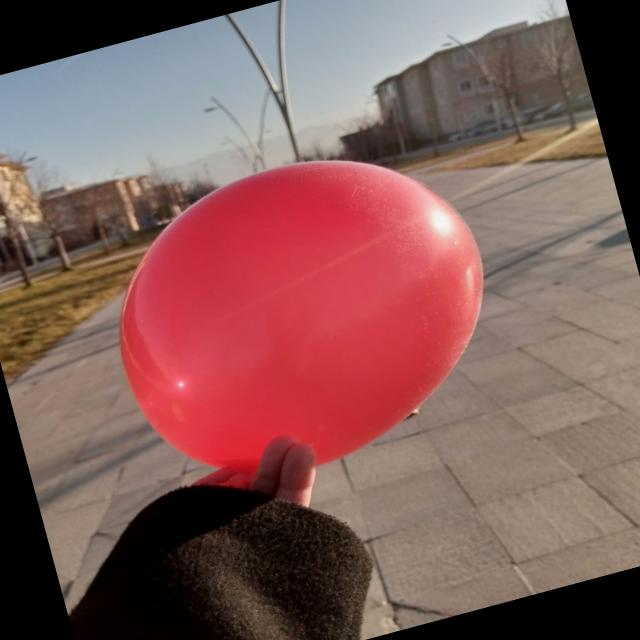balloon: (119, 161, 482, 470)
